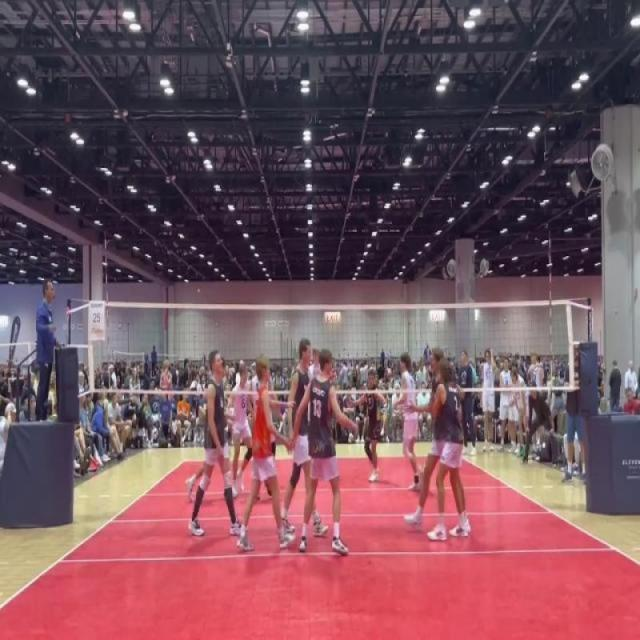volleyball: (150, 427, 160, 440)
